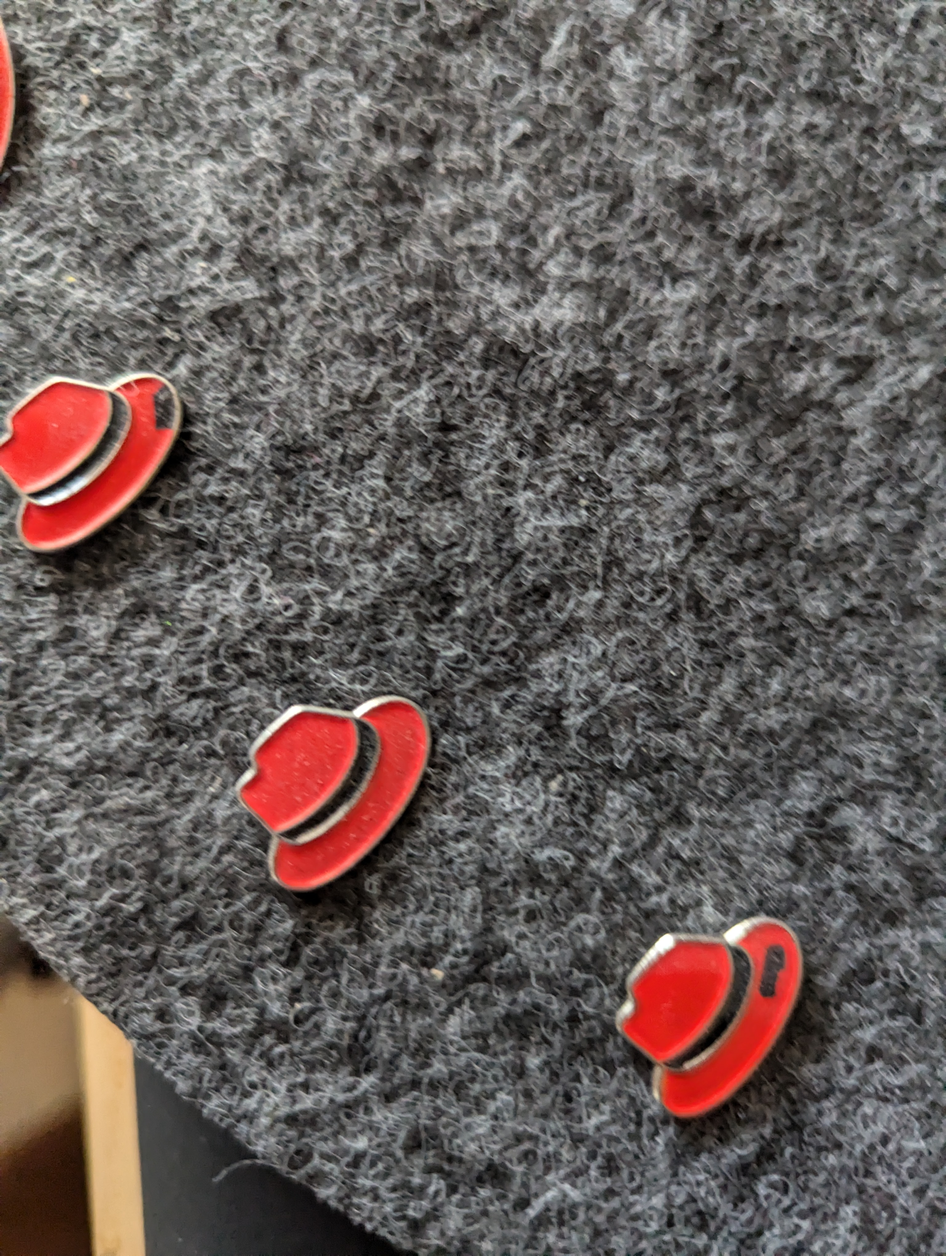Red-Hat: (209, 659, 442, 933), (593, 891, 817, 1149), (0, 350, 202, 574)
Scratch: (745, 927, 807, 1017), (137, 364, 181, 439)
